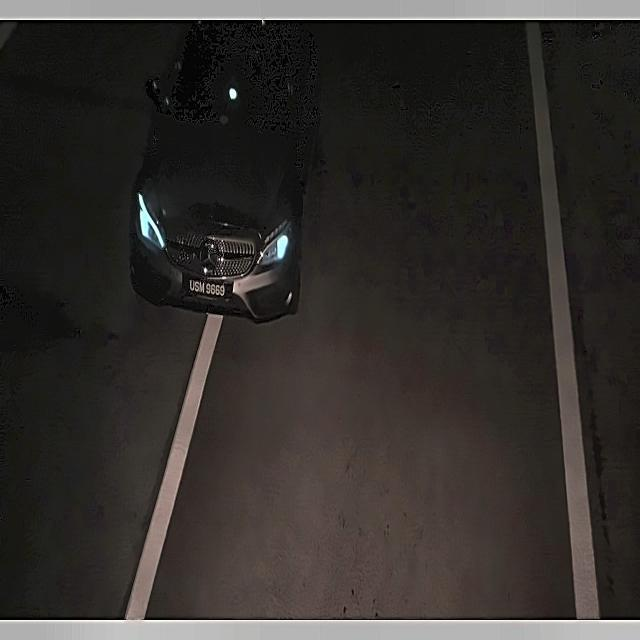car: (184, 275, 228, 309)
